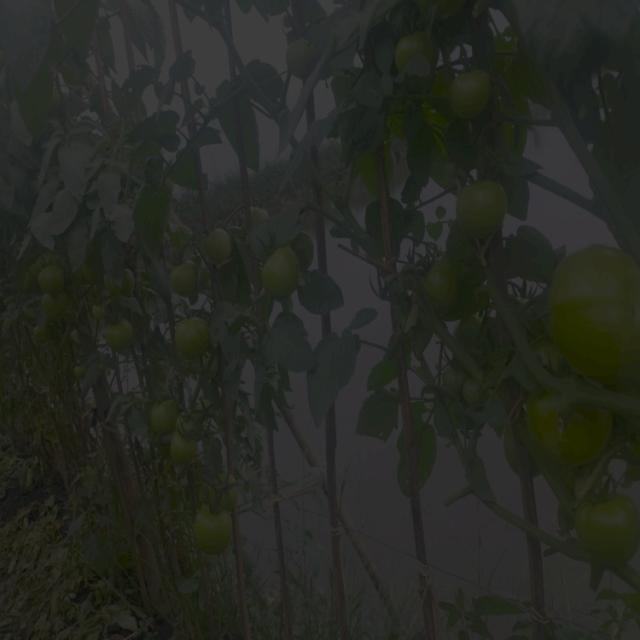tomato: (545, 240, 640, 386), (525, 394, 620, 461), (571, 492, 640, 566), (453, 176, 515, 242), (452, 62, 501, 121), (262, 246, 304, 298), (428, 258, 464, 318), (201, 502, 240, 554), (175, 313, 210, 357), (290, 37, 320, 79), (169, 430, 203, 463), (102, 319, 137, 350), (203, 231, 235, 261), (172, 258, 200, 291), (35, 261, 66, 290), (454, 379, 485, 406), (150, 398, 177, 428), (441, 362, 467, 392), (42, 288, 68, 317), (392, 36, 421, 58), (119, 273, 140, 297), (35, 323, 51, 341), (73, 360, 90, 371)
